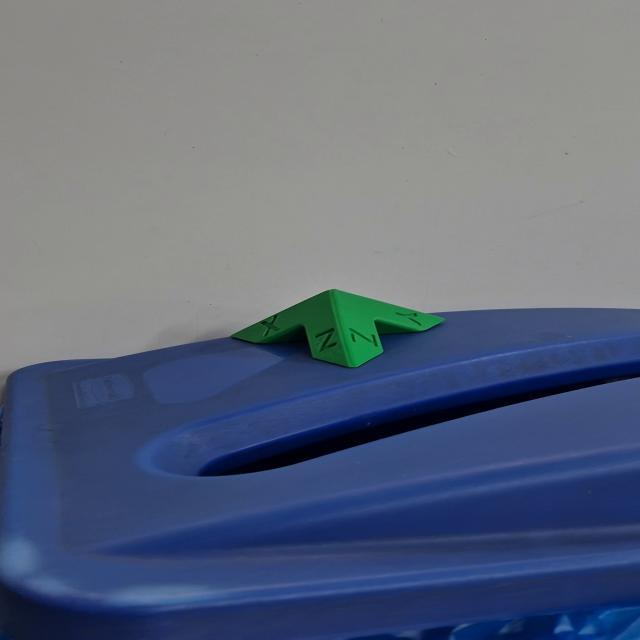objects: (229, 288, 447, 369)
